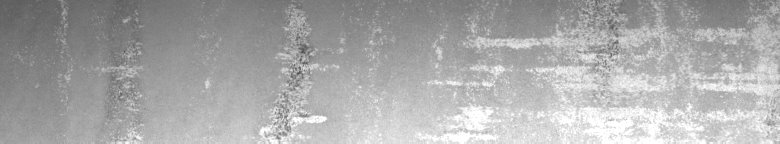hc: (268, 44, 327, 132)
